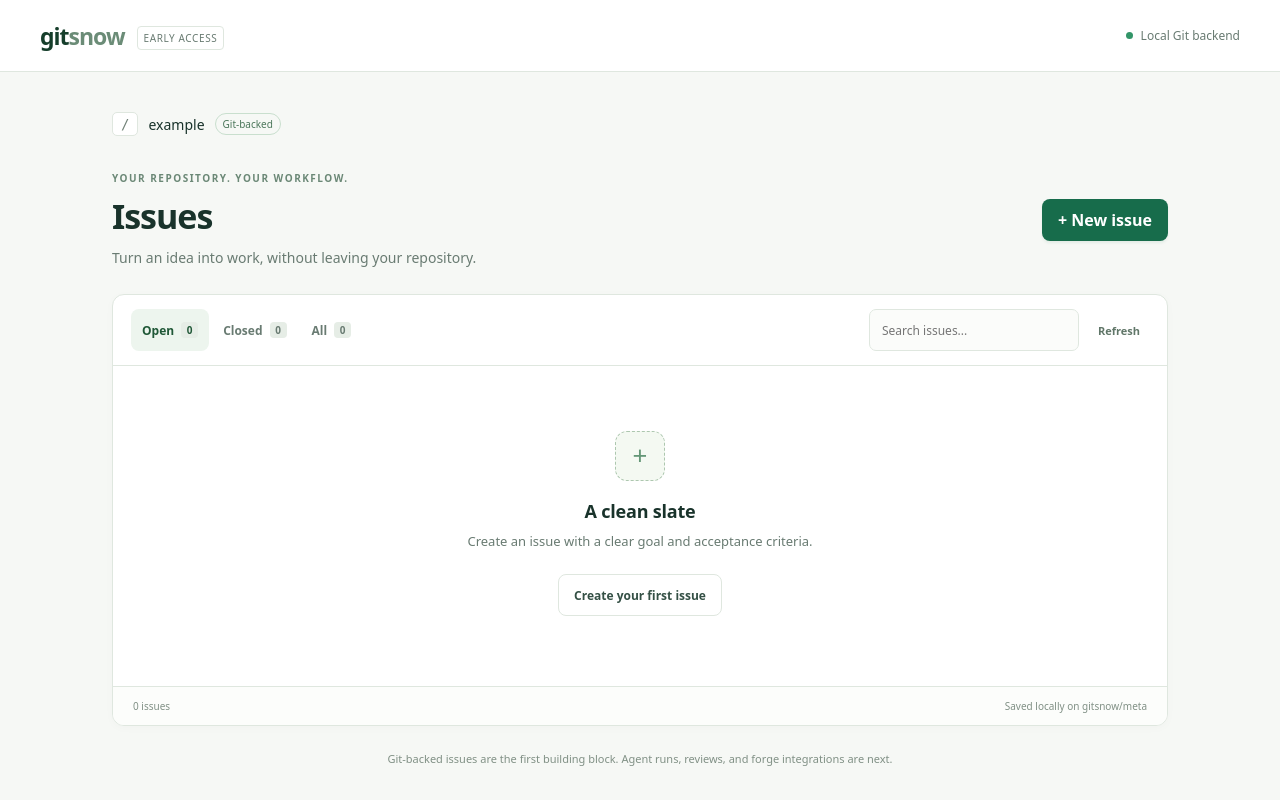
Test case: issue workflow › creates an optimistic issue, then marks it saved only after Git confirms
This screenshot has width=1280, height=800.
Click the button "+ New issue" at [1105, 220], box [1042,199,1168,241]
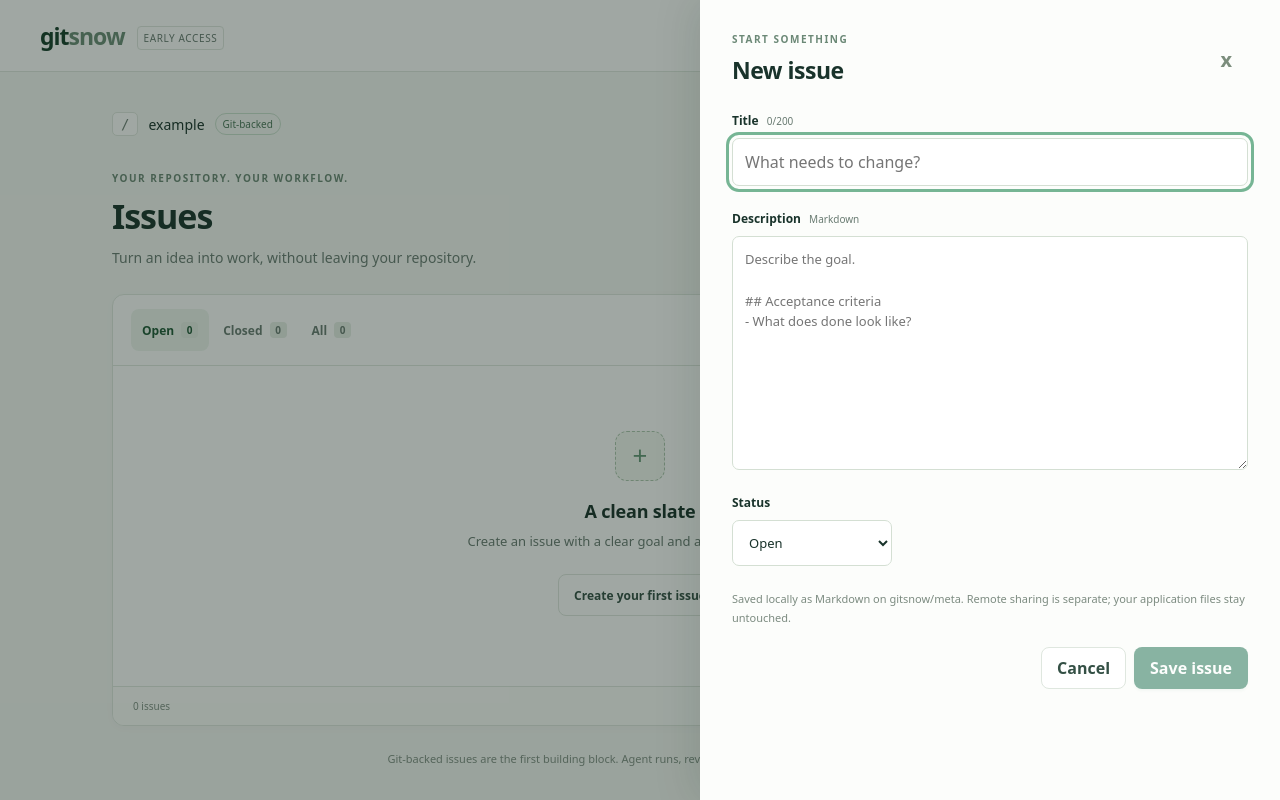
Type "Mobile workflow" into the field labelled "Title 0/200" at [990, 162], box [732,138,1248,186]
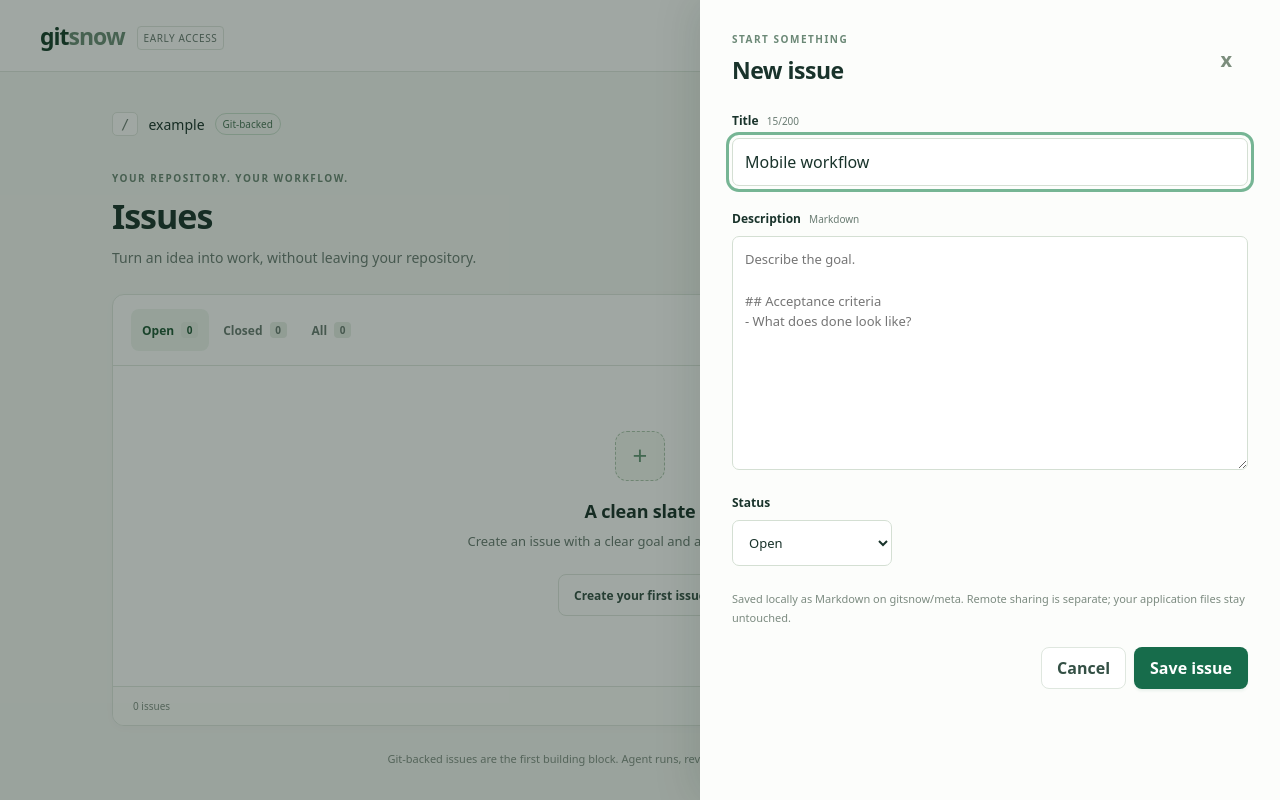
Type "Works from a phone." into the text box labelled "Description Markdown" at [990, 353], box [732,236,1248,470]
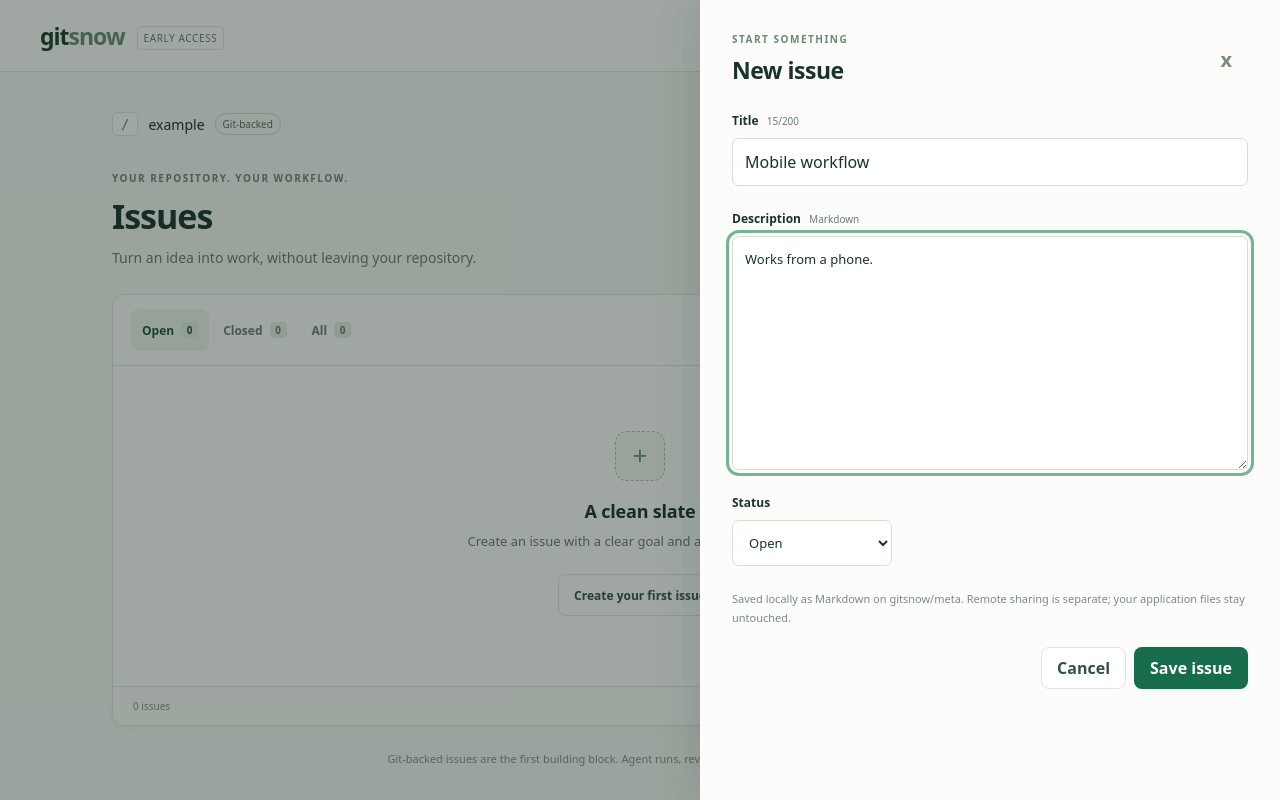
Click the button "Save issue" at [1191, 668], box [1134,647,1248,689]
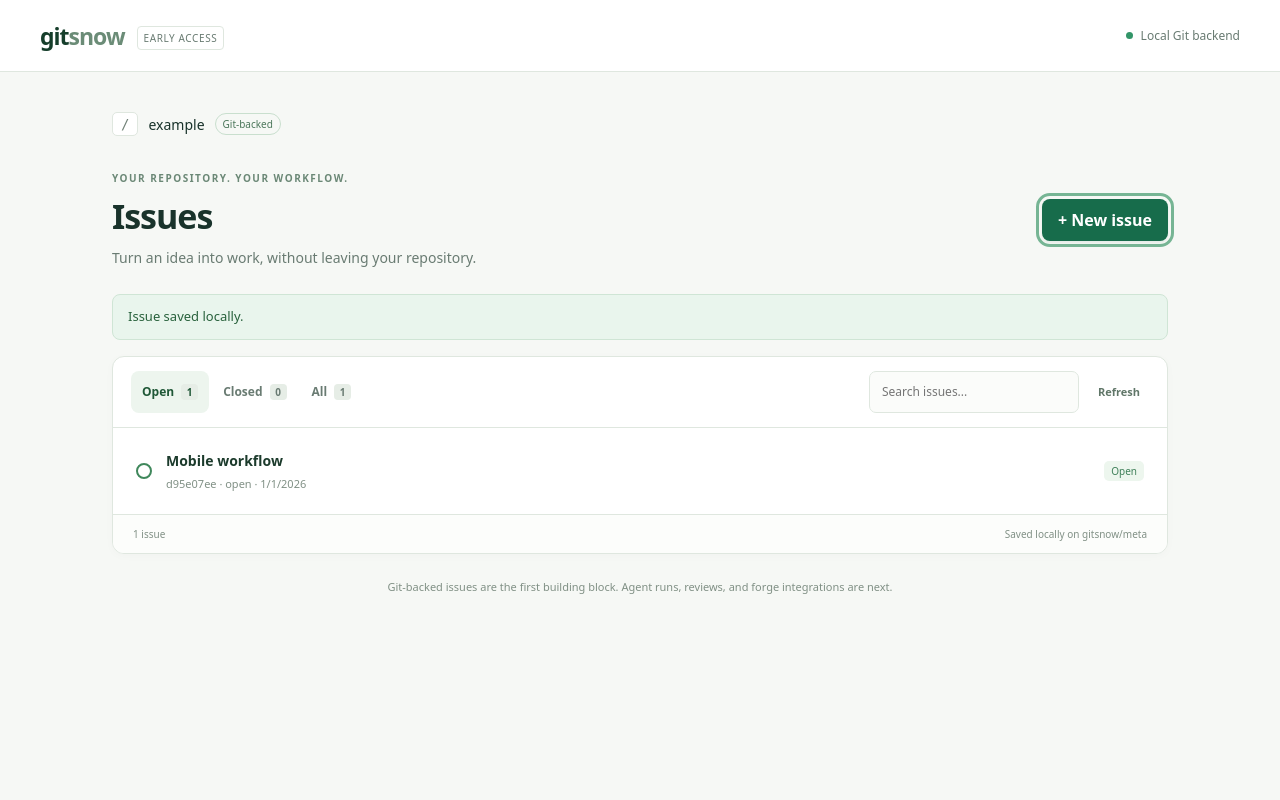
Expected: the text "Mobile workflow" is shown, [166,451,283,470]
Expected: the text "Pending" is shown, [1104,461,1144,481]
Expected: the text "Issue saved locally." is shown, [112,294,1168,340]
